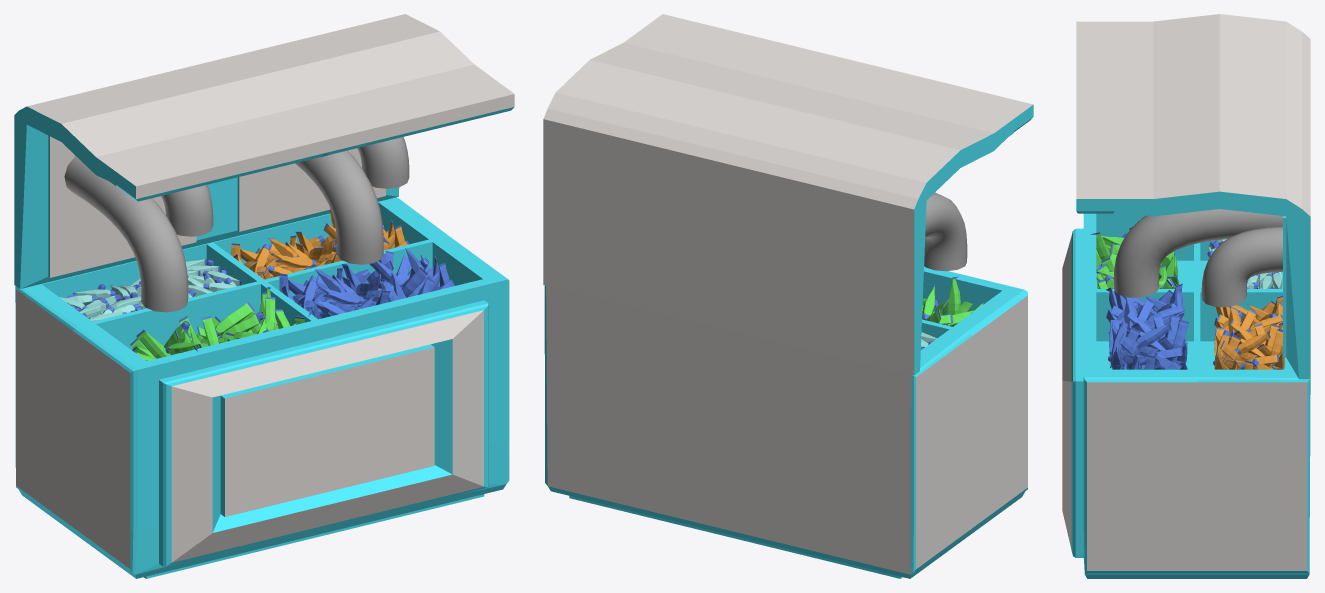
Rendered from Dinner Dispencer FixedScale.fbx.
The picture shows the model from 3 angles, left to right: view 1: azimuth 30°, elevation 25°; view 2: azimuth 150°, elevation 25°; view 3: azimuth 270°, elevation 25°; orthographic projection. The views are drawn at different scales.
Parts seen in each view (by area): view 1: Cube.088; view 2: Cube.088; view 3: Cube.088.
Part boxes in pixels (x1,y1,x2,y2): Cube.088: [14, 14, 514, 578]; Cube.088: [543, 14, 1033, 578]; Cube.088: [1062, 14, 1310, 578].
Bounding box in the file's own units: 480 × 500 × 284.
